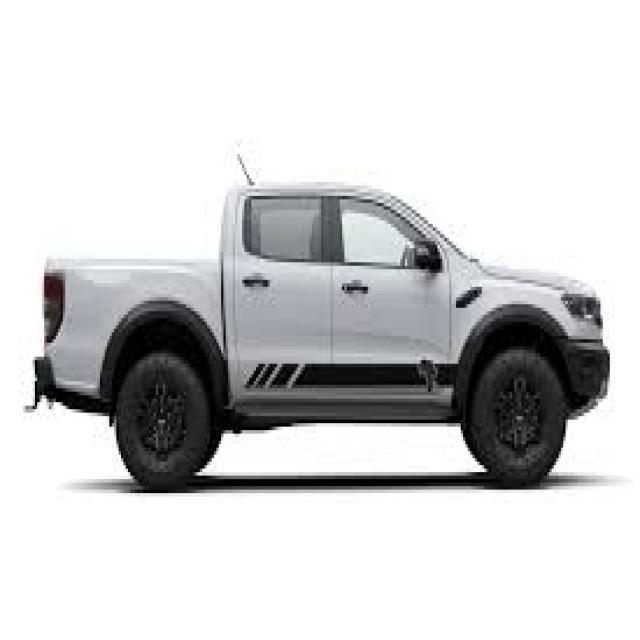Pickup Trucks: (44, 185, 610, 493)
